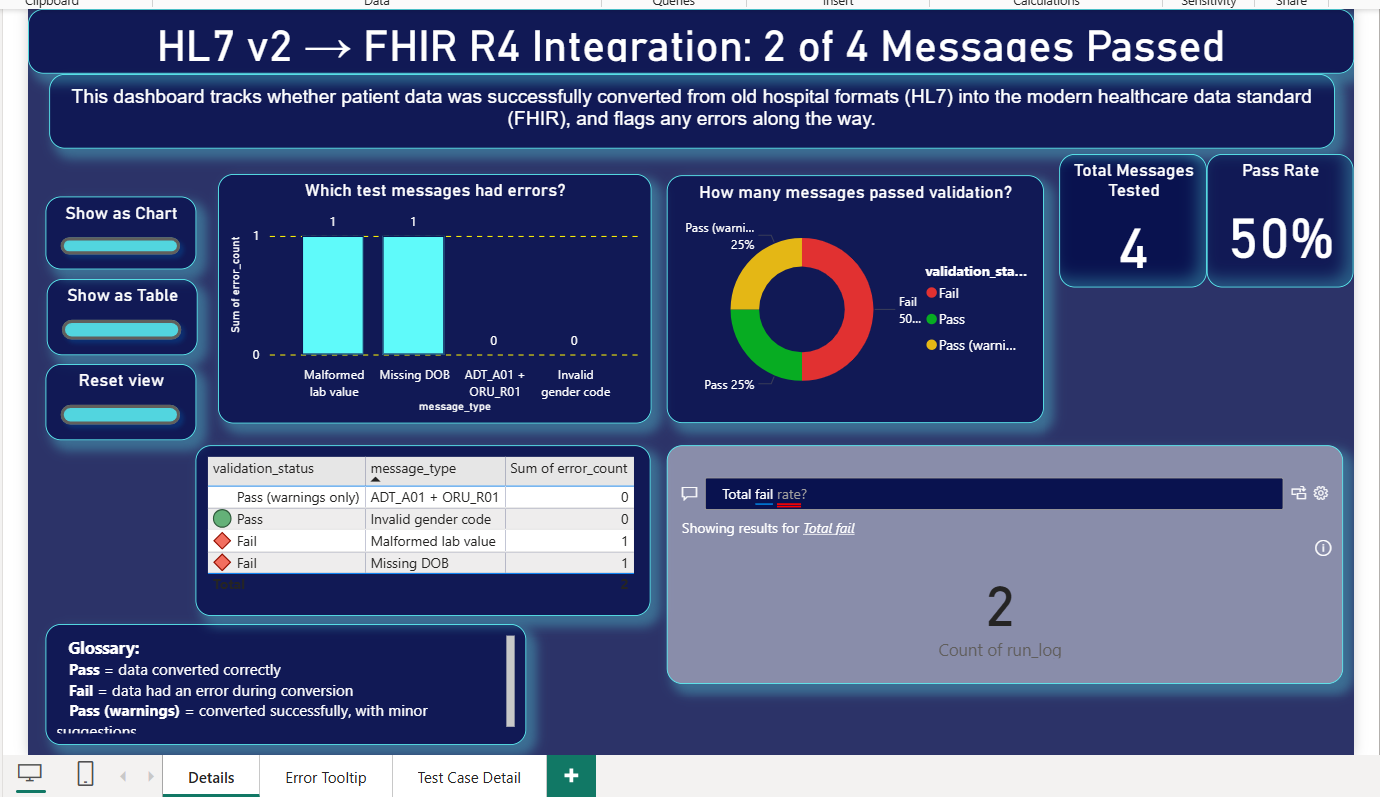

This screenshot's page, from the dashboard's own definition file:
{"tool":"powerbi","page":{"name":"Details","canvas":[1280,720],"ordinal":0},"visuals":[{"type":"donutChart","title":"How many messages passed validation?","fields":{"Category":["run_log.validation_status"],"Y":["CountNonNull(run_log.message_type)"]},"box":[616.7,160.6,363.6,239.4],"z":0},{"type":"clusteredColumnChart","title":"Which test messages had errors?","fields":{"Y":["Sum(run_log.error_count)"],"Category":["run_log.message_type"]},"box":[183.7,158.9,418.3,240.8],"z":1000},{"type":"card","title":"Total Messages Tested","fields":{"Values":["CountNonNull(run_log.message_type)"]},"box":[995.5,140.3,142.7,129.1],"z":2000},{"type":"textbox","box":[20.2,62.2,1240.7,72.3],"z":3000},{"type":"card","title":"Pass Rate","fields":{"Values":["run_log.Pass Rate %"]},"box":[1138.3,140.3,141.5,129.1],"z":4000},{"type":"textbox","box":[16.7,593.9,463.6,116.7],"z":5000},{"type":"card","fields":{"Values":["run_log.Dynamic Title"]},"box":[0,0,1279.8,62.1],"z":6000},{"type":"tableEx","fields":{"Values":["run_log.validation_status","run_log.message_type","Sum(run_log.error_count)"]},"box":[162.1,421.2,439.4,165.2],"z":7000},{"type":"actionButton","title":"Show as Table","box":[18.6,260.7,145.2,73.2],"z":11000},{"type":"actionButton","title":"Show as Chart","box":[17.4,181.2,145.2,70.8],"z":12000},{"type":"qnaVisual","box":[616.7,421.2,653,230.3],"z":13000},{"type":"actionButton","title":"Reset view","box":[17.4,342.6,145.2,73.2],"z":13001}]}

Visuals, with their boxes on the page's 1280x720 design canvas (x1, y1, x2, y2). These are canvas units, not pixel positions in the 1380x797 screenshot, which may show the page scaled, cropped or inside an application window:
"How many messages passed validation?" donutChart: 617,161,980,400
"Which test messages had errors?" clusteredColumnChart: 184,159,602,400
"Total Messages Tested" card: 996,140,1138,269
textbox: 20,62,1261,134
"Pass Rate" card: 1138,140,1280,269
textbox: 17,594,480,711
card - run_log.Dynamic Title: 0,0,1280,62
tableEx - run_log.validation_status x run_log.message_type: 162,421,602,586
"Show as Table" actionButton: 19,261,164,334
"Show as Chart" actionButton: 17,181,163,252
qnaVisual: 617,421,1270,652
"Reset view" actionButton: 17,343,163,416
